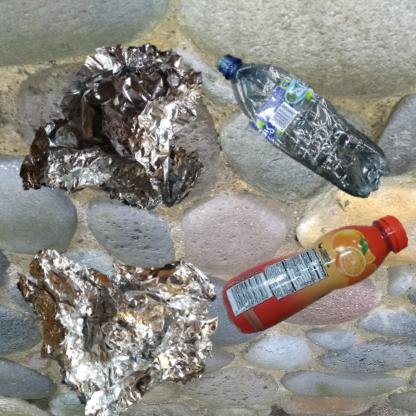aluminio: (10, 10, 272, 287), (10, 213, 246, 416)
botella: (213, 10, 416, 293), (213, 213, 416, 345)
